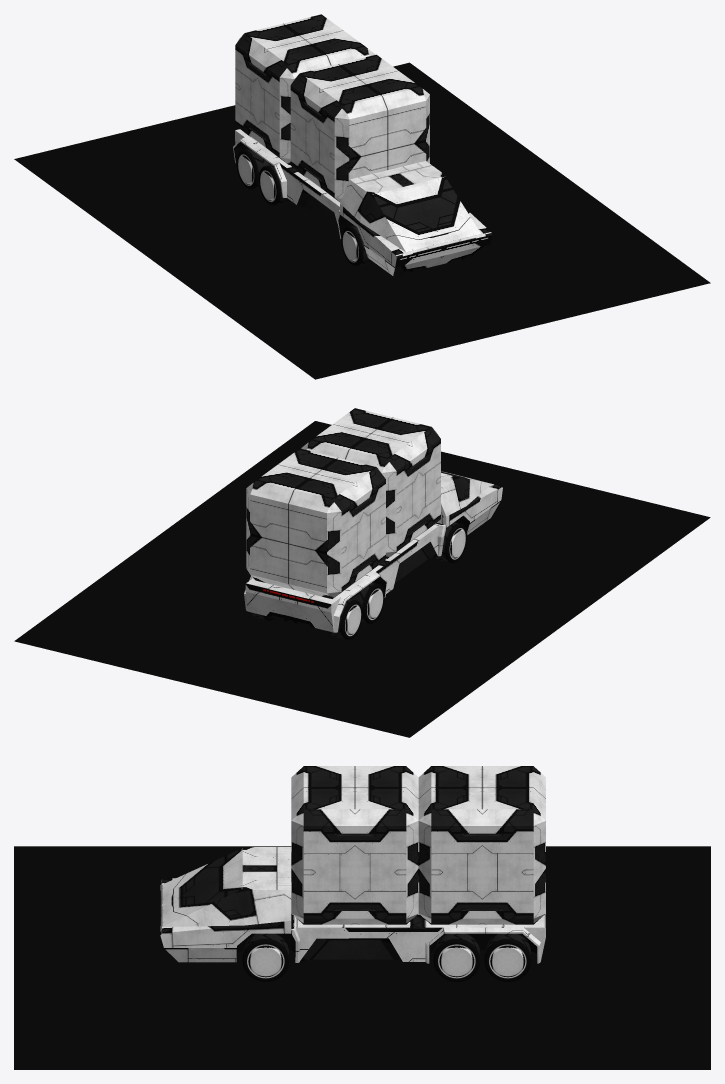
File: free_-_sci-fi_lods_-_sf_wv_07_-_public_domain.glb
3 views of the same model, one above another, from view 1: azimuth 30°, elevation 25°; view 2: azimuth 150°, elevation 25°; view 3: azimuth 270°, elevation 25° (orthographic). The views are drawn at different scales.
Parts seen in each view (by area): view 1: shadow_1.015, SF_WV_07LoadSM, SF_WV_07, SF_WV_07LoadSM.001, Wheel_FL.029, Wheel_FL.028, Wheel_FL.030; view 2: shadow_1.015, SF_WV_07LoadSM.001, SF_WV_07LoadSM, SF_WV_07, Wheel_FL.030, Wheel_FL.028, Wheel_FL.029; view 3: shadow_1.015, SF_WV_07LoadSM, SF_WV_07LoadSM.001, SF_WV_07, Wheel_FL.027, Wheel_FL.026, Wheel_FL.025.
Boxes of the visible parts, box(x1,y1,x2,y2) form: shadow_1.015: box(14, 62, 710, 379); SF_WV_07LoadSM: box(290, 54, 429, 202); SF_WV_07: box(233, 129, 491, 276); SF_WV_07LoadSM.001: box(235, 14, 374, 164); Wheel_FL.029: box(236, 148, 271, 189); Wheel_FL.028: box(341, 225, 372, 266); Wheel_FL.030: box(258, 164, 290, 205); shadow_1.015: box(14, 421, 710, 737); SF_WV_07LoadSM.001: box(246, 448, 385, 598); SF_WV_07LoadSM: box(301, 408, 440, 558); SF_WV_07: box(244, 471, 502, 632); Wheel_FL.030: box(350, 582, 384, 623); Wheel_FL.028: box(434, 522, 467, 563); Wheel_FL.029: box(327, 599, 362, 639); shadow_1.015: box(14, 846, 710, 1069); SF_WV_07LoadSM: box(291, 766, 418, 924); SF_WV_07LoadSM.001: box(418, 766, 545, 924); SF_WV_07: box(160, 847, 545, 963); Wheel_FL.027: box(433, 933, 480, 981); Wheel_FL.026: box(484, 933, 531, 981); Wheel_FL.025: box(242, 933, 289, 981).
Size of the model in its own units: 8.3 by 2.91 by 10.95.
2 materials, 2 textured.
